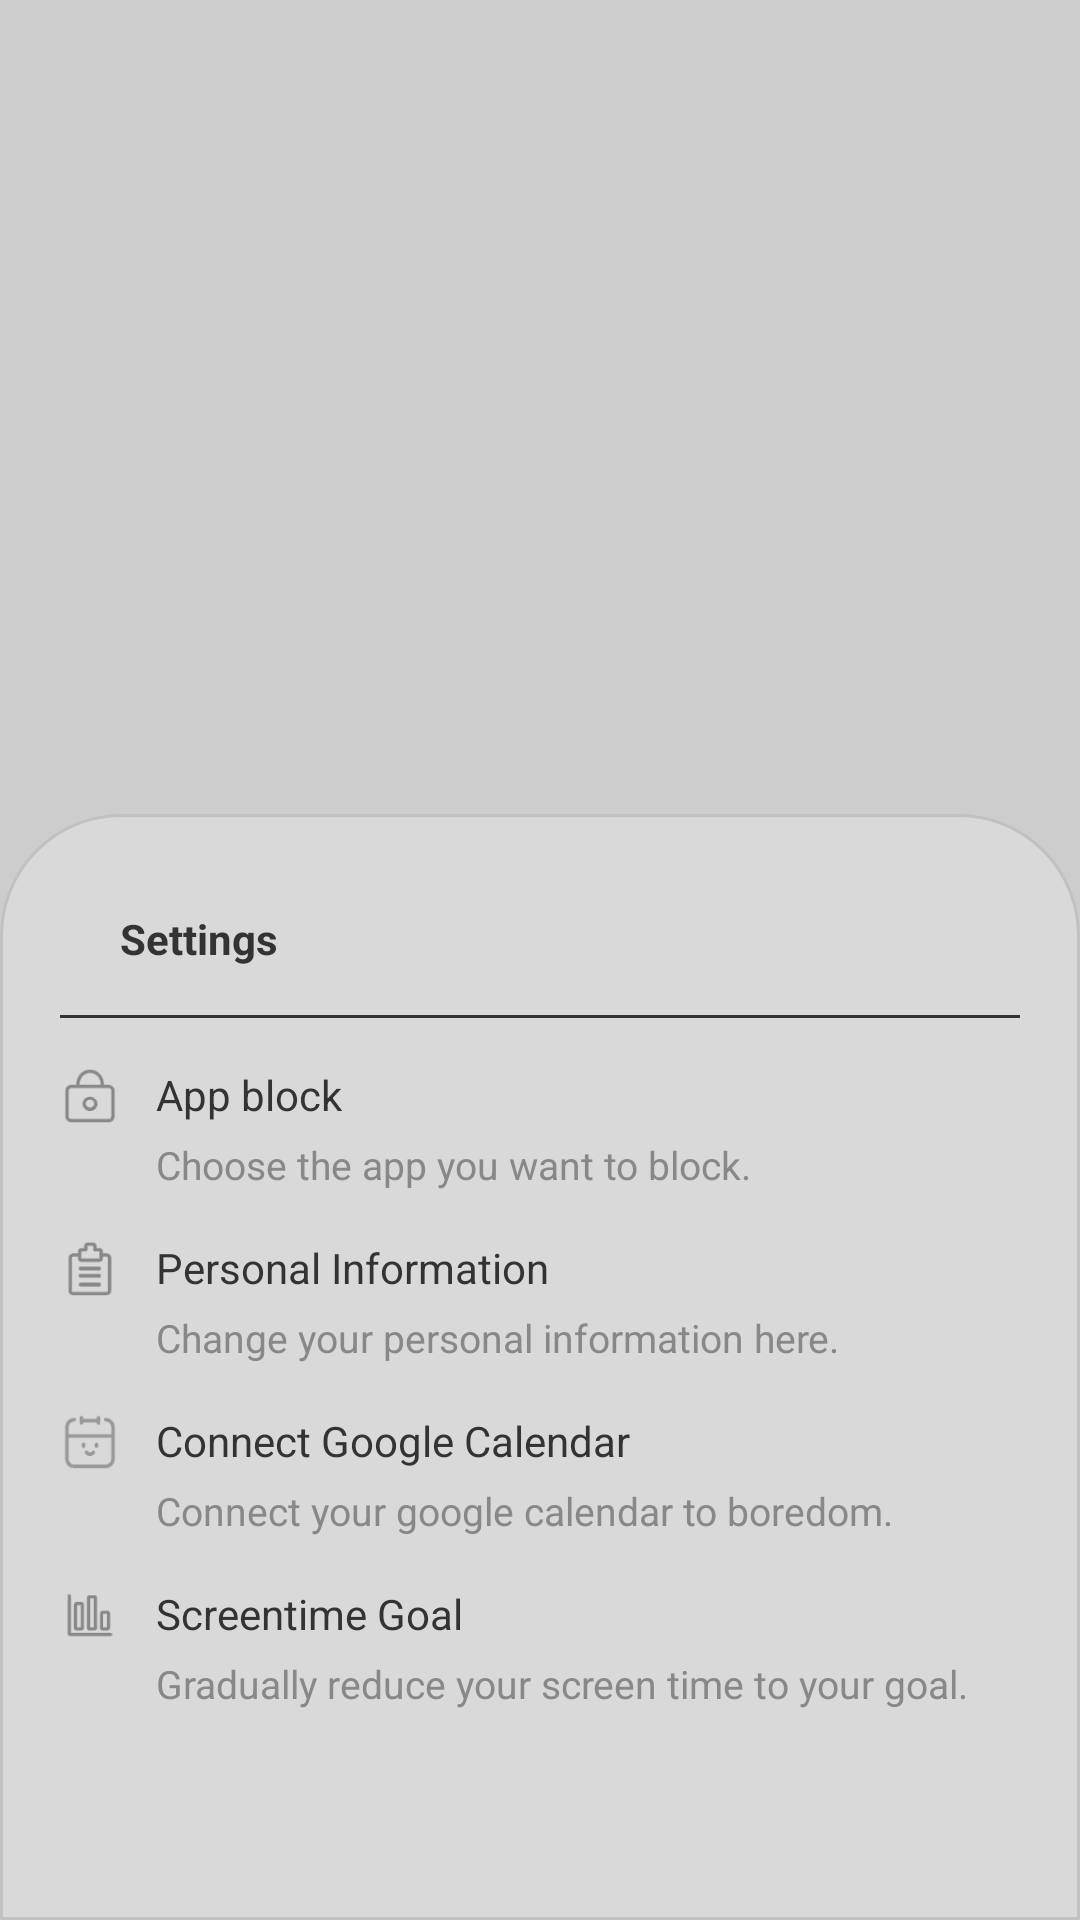

Point at icon controls on the screen. Image size 1080px×1920px, points as [x,y].
chart: [90,1615]
